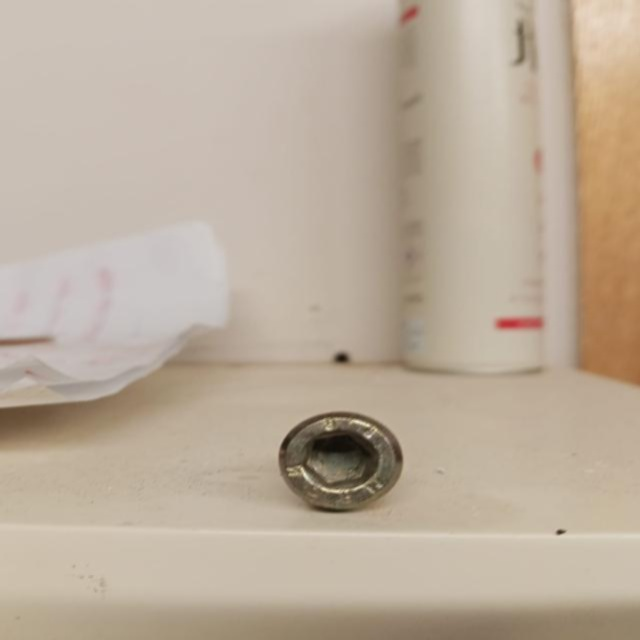allen: (277, 410, 403, 511)
